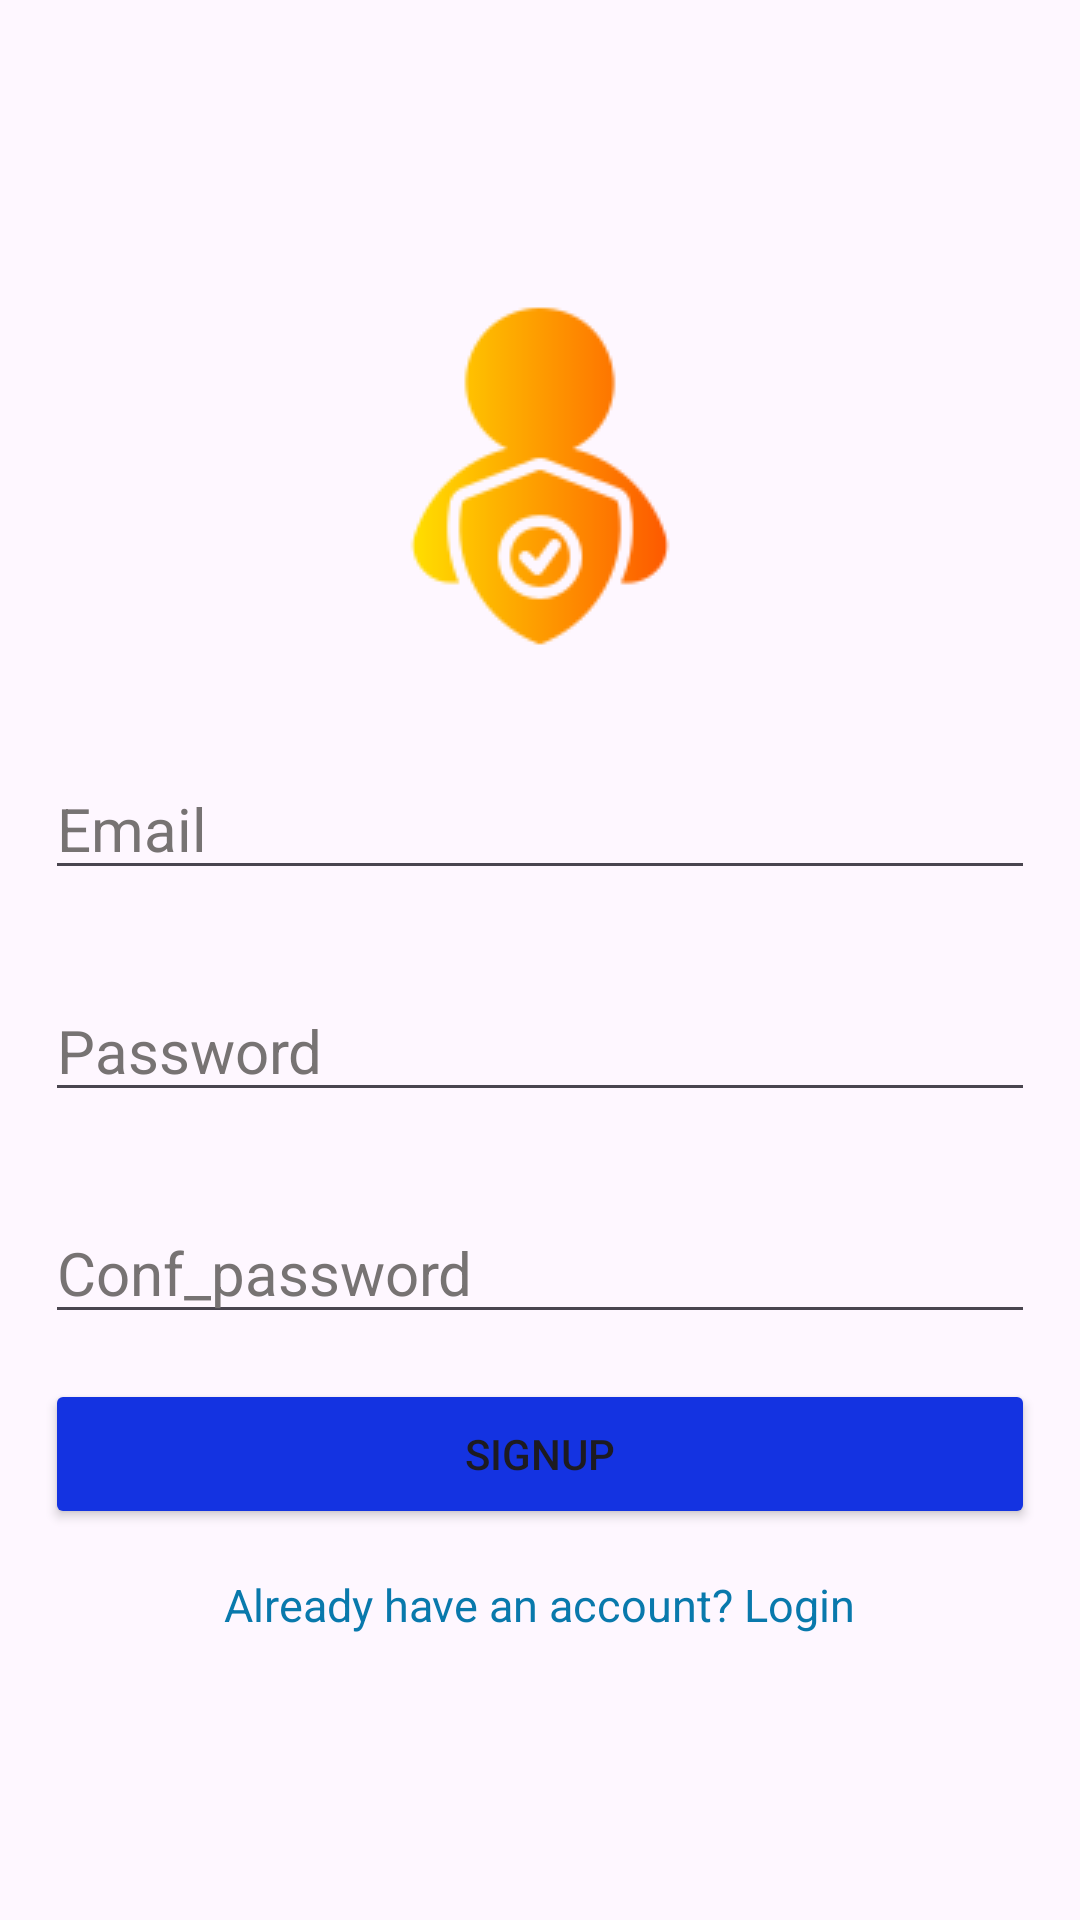

Screen size 1080x1920. Icon name, then its box in pixels as (x1, y1, x2, y2):
signin: (410, 307, 669, 645)
